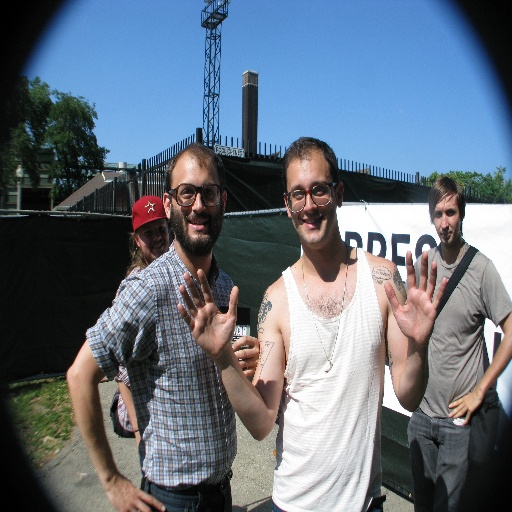hand: (175, 281, 249, 368), (384, 249, 448, 348), (102, 474, 167, 511), (446, 390, 483, 428), (230, 334, 260, 379)
